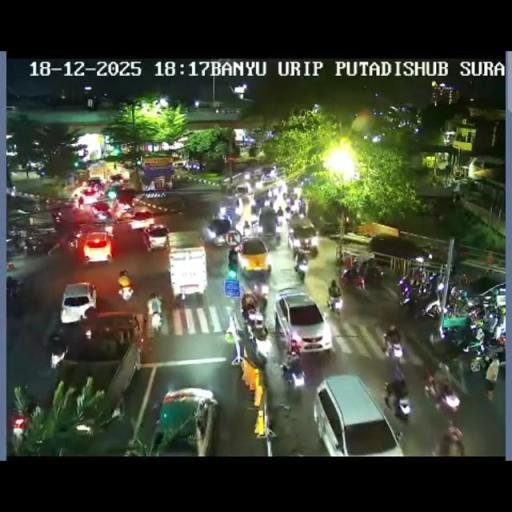Car: (49, 309, 141, 409), (312, 374, 404, 454), (150, 386, 218, 454), (272, 286, 330, 357), (165, 231, 206, 301), (235, 235, 271, 281), (60, 282, 97, 324), (286, 218, 318, 256), (81, 232, 113, 264), (202, 218, 234, 248), (142, 223, 170, 251), (126, 208, 156, 230), (90, 202, 112, 222), (80, 187, 99, 205), (234, 183, 253, 199), (109, 173, 125, 185), (88, 176, 103, 188), (172, 160, 188, 170)
Motorcycle: (460, 327, 503, 374), (429, 320, 469, 361), (423, 374, 460, 415), (401, 282, 436, 318), (438, 288, 470, 318), (97, 397, 125, 429), (280, 354, 306, 388), (438, 426, 464, 455), (10, 412, 28, 452), (451, 352, 468, 392), (340, 266, 366, 290), (6, 286, 24, 320), (391, 391, 411, 420), (363, 265, 385, 289), (49, 340, 67, 369), (384, 338, 405, 362), (250, 279, 270, 304), (260, 222, 280, 246), (250, 315, 268, 341), (479, 310, 498, 334), (326, 290, 342, 317), (390, 360, 406, 386), (6, 234, 24, 257), (64, 228, 82, 250), (150, 307, 164, 334), (118, 280, 134, 302), (466, 304, 485, 322), (451, 270, 469, 289), (293, 255, 307, 279), (410, 266, 424, 289), (252, 198, 266, 218), (398, 273, 412, 292), (50, 210, 65, 227), (228, 246, 238, 270), (289, 337, 301, 354), (234, 198, 244, 216), (272, 212, 282, 229), (250, 215, 261, 230), (334, 250, 344, 266), (226, 182, 236, 198), (104, 223, 114, 238), (274, 196, 282, 214), (282, 208, 292, 222), (292, 186, 302, 200), (298, 199, 306, 216), (242, 222, 250, 236), (78, 196, 84, 210)
